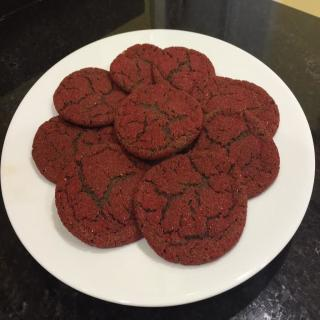Cookie: (30, 41, 279, 267)
